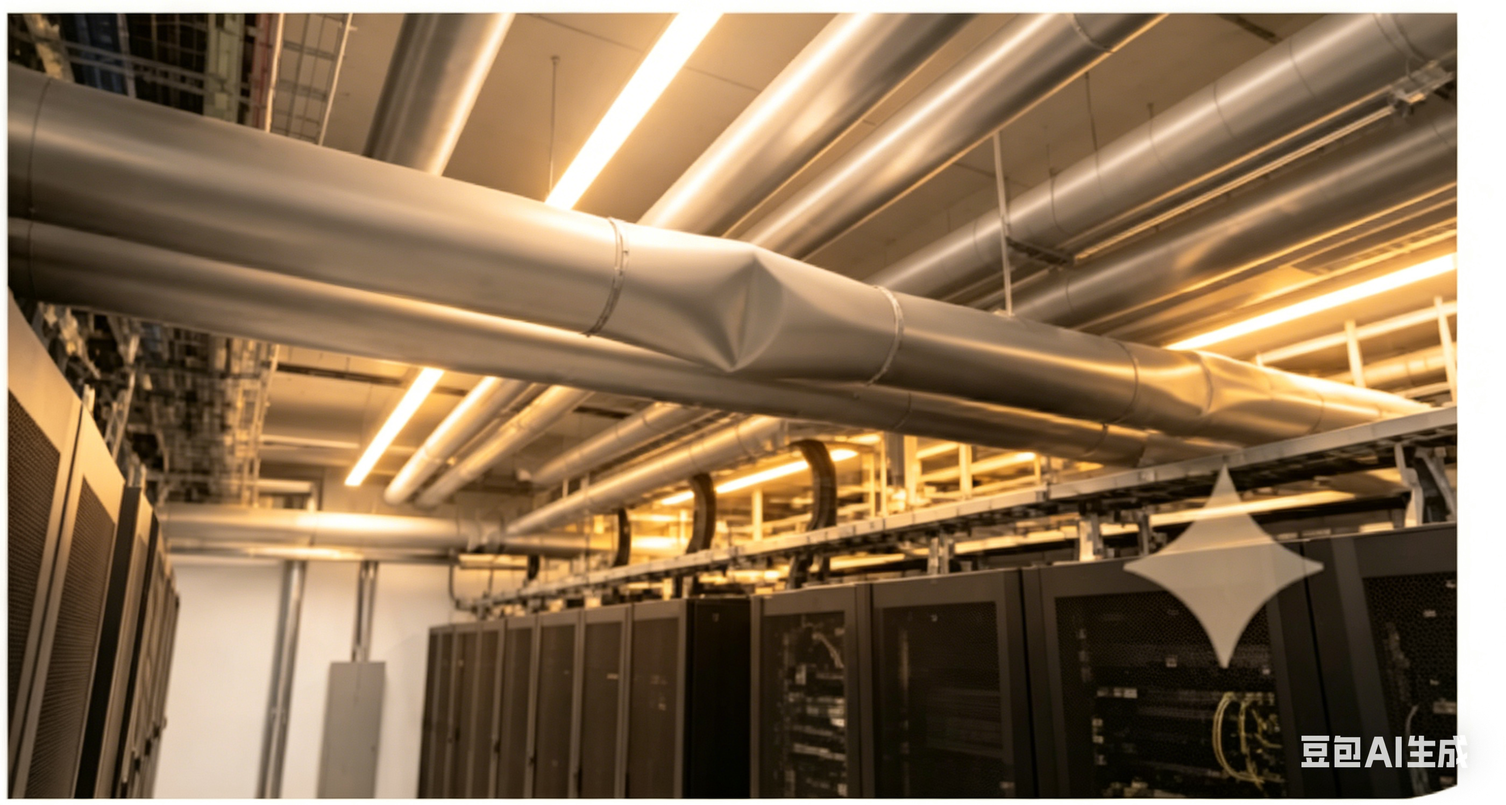Leakage: (671, 240, 804, 372)
